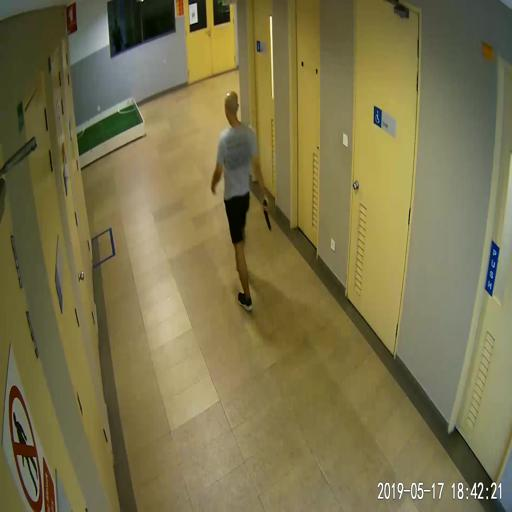pistol: (262, 196, 271, 230)
